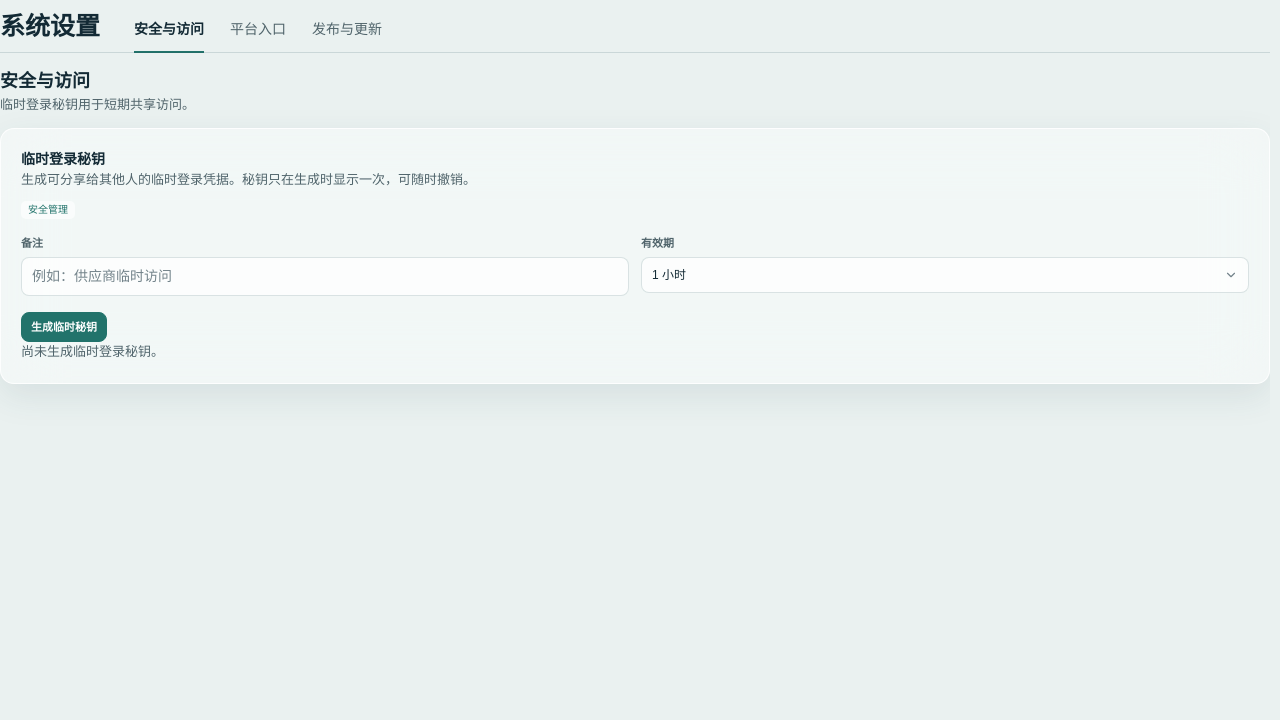
Test case: SystemSettings view › shows tabbed settings sections
Check: the heading "系统设置" is shown, box [0,11,100,41]
Check: the text "平台自更新" is not shown
Click the button with test id "system-settings-tab-entry" at (258, 36), box [230,19,286,52]
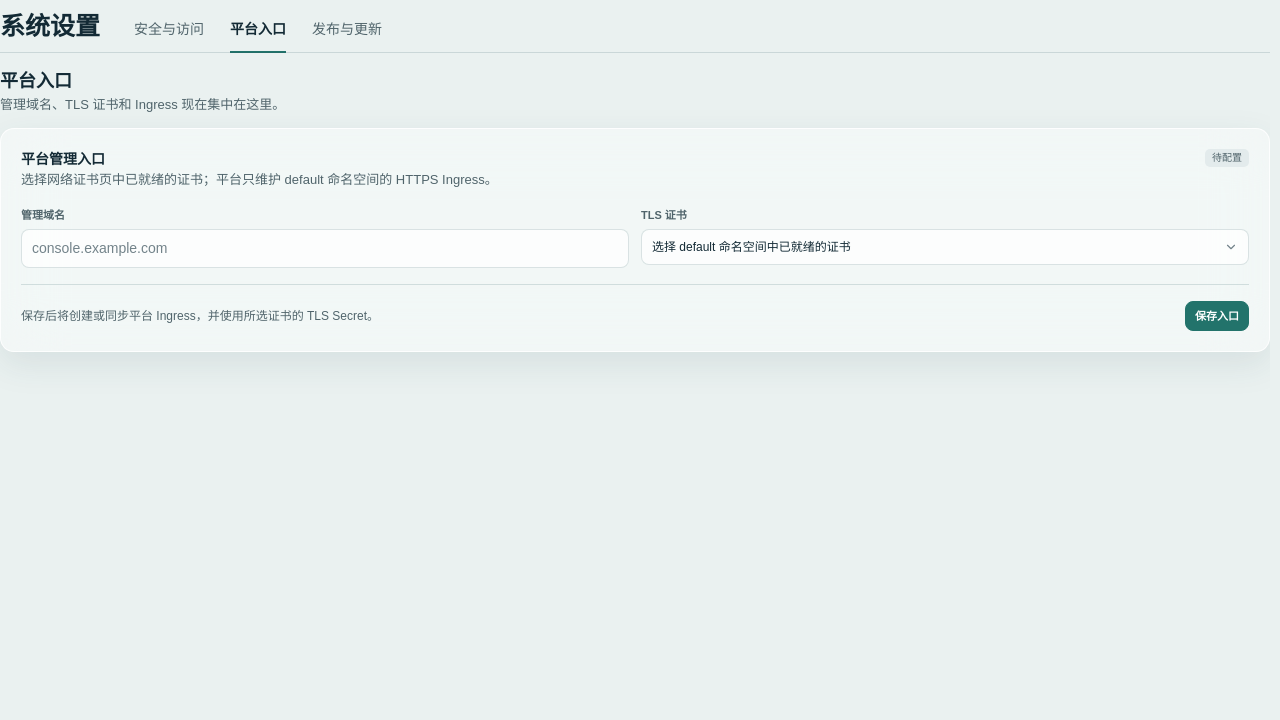
Check: the element that starts with "平台管理入口" is shown, box [0,128,1270,352]
Check: the text "平台管理入口" is shown, box [21,151,105,167]
Check: the text "临时登录秘钥" is gone
Click the button with test id "system-settings-tab-release" at (347, 36), box [312,19,382,52]
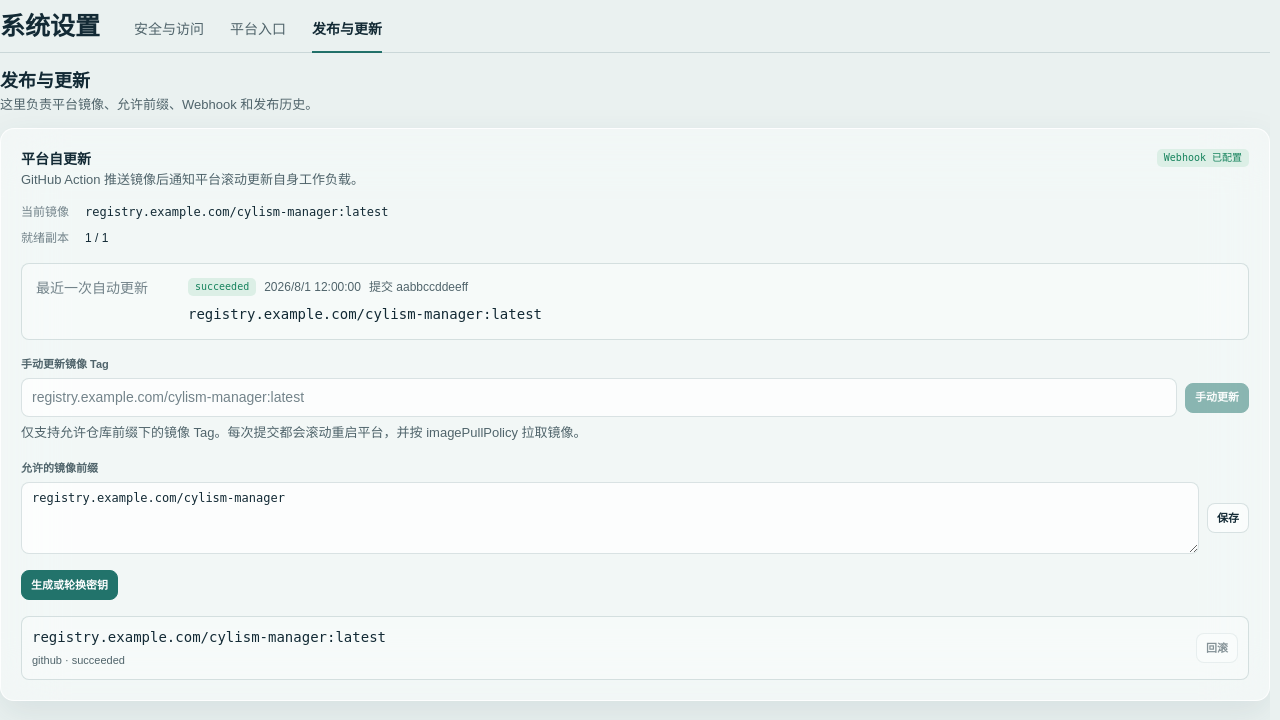
Check: the text "平台自更新" is shown, box [21,151,91,167]
Check: the text "registry.example.com/cylism-manager:latest" is shown, box [85,205,388,219]
